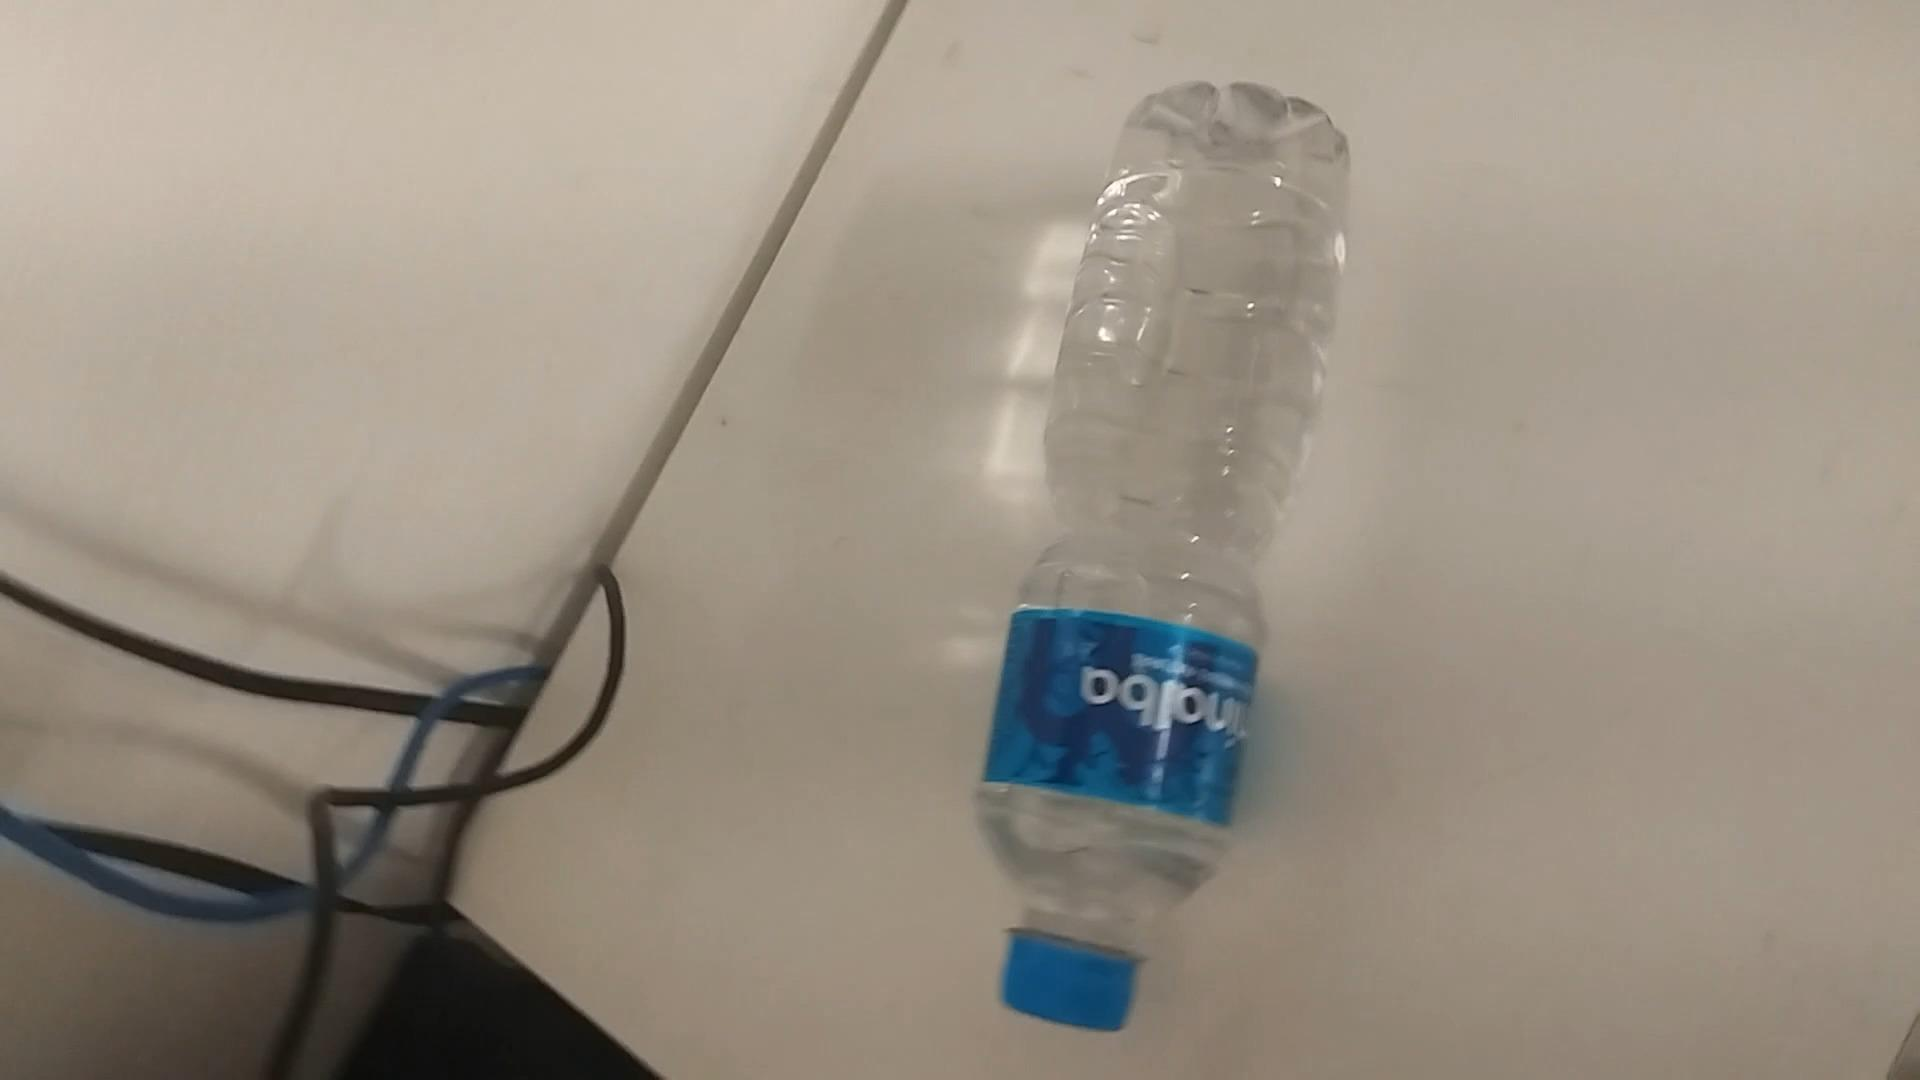agua: (972, 76, 1357, 1030)
